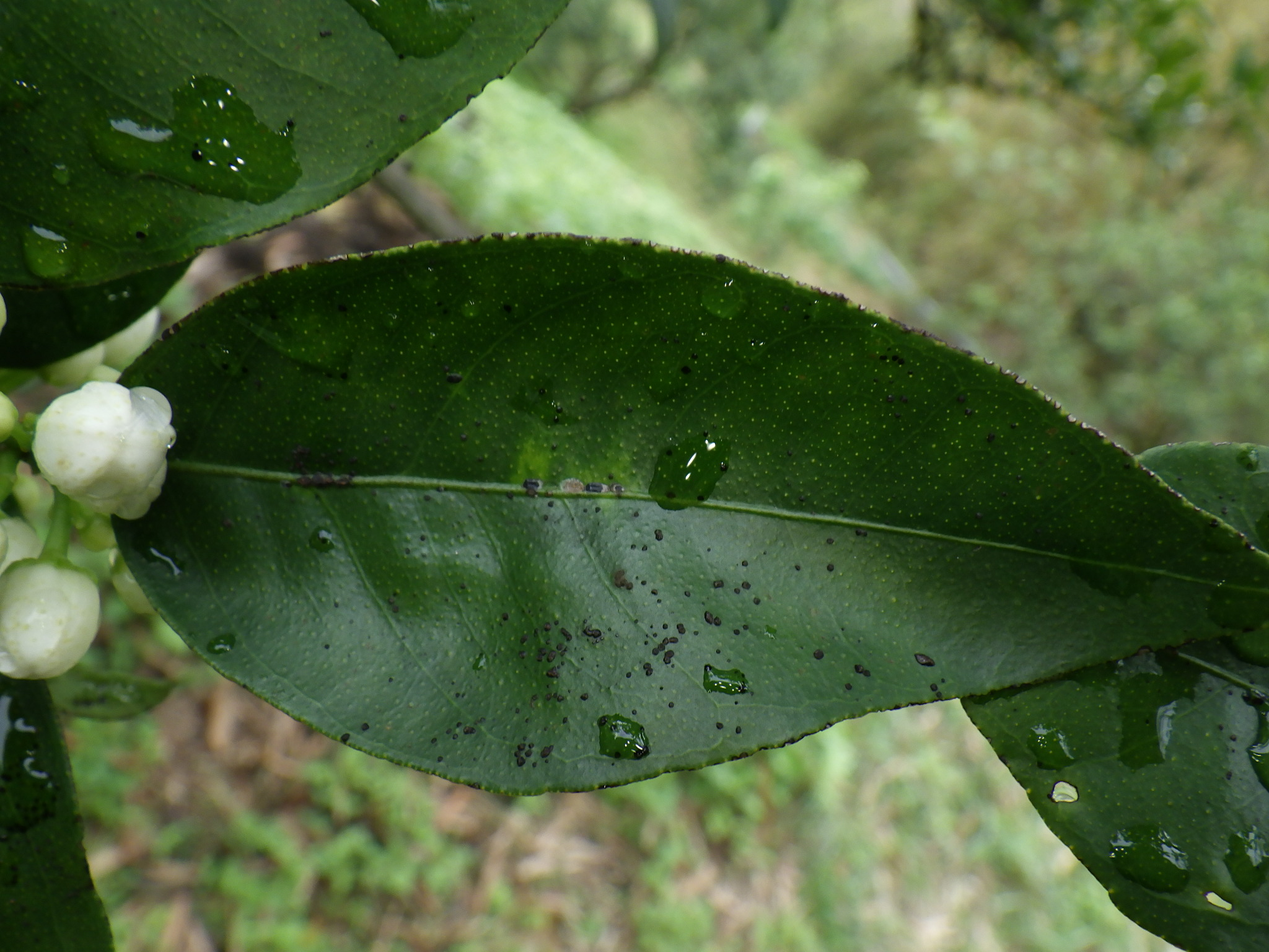Black_Spot: (115, 237, 1268, 793)
